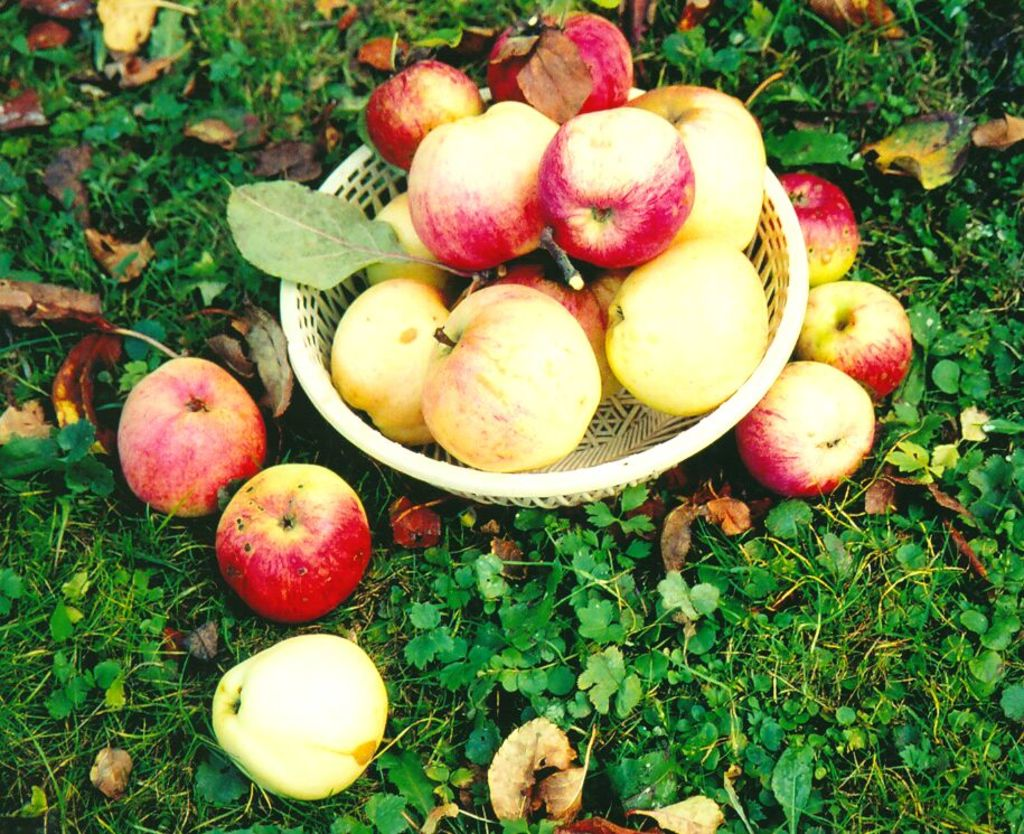Apple: (324, 6, 771, 472), (213, 628, 389, 800), (214, 461, 370, 630), (116, 354, 265, 520), (737, 354, 874, 494), (794, 278, 915, 401), (780, 171, 856, 289)
